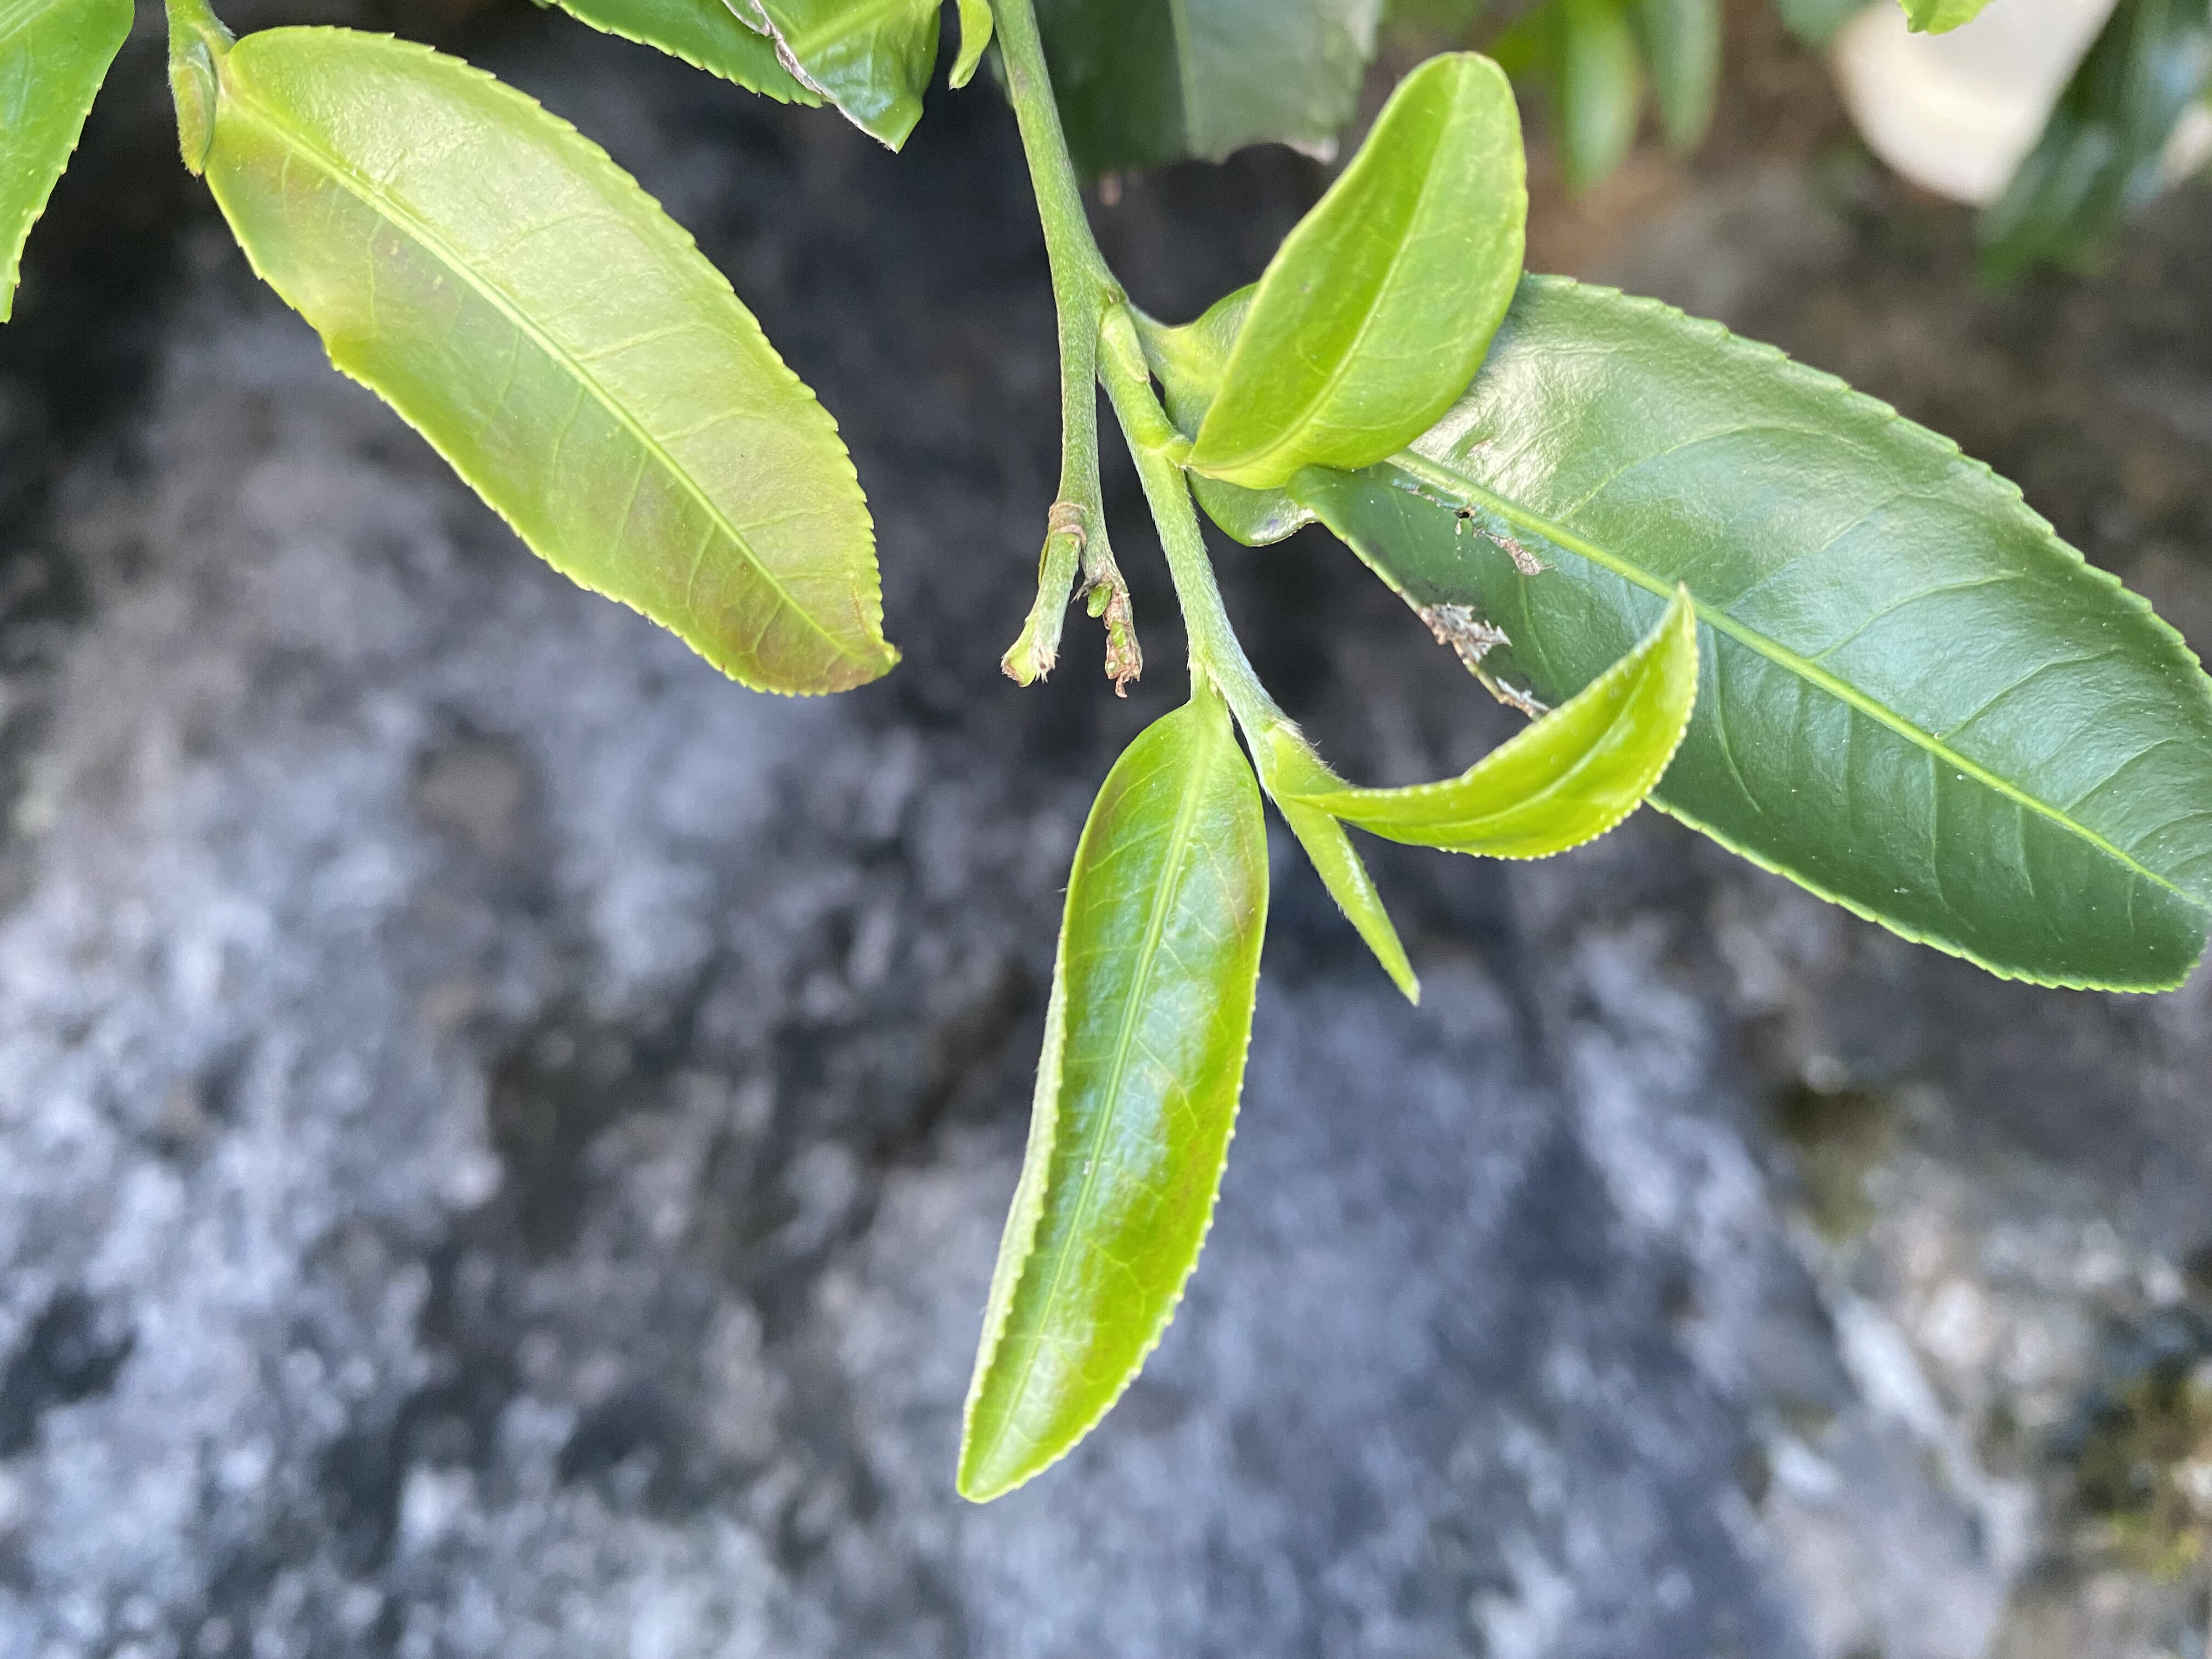chihuo_high: (718, 2, 946, 155)
healthy: (200, 23, 909, 699), (954, 701, 1270, 1509), (1183, 51, 1533, 490)
tanju_high: (1165, 268, 2207, 1004)
